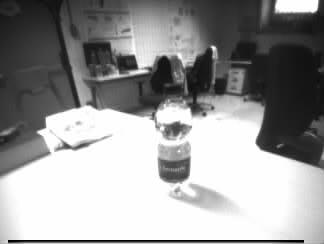Bottle: (157, 83, 192, 194)
